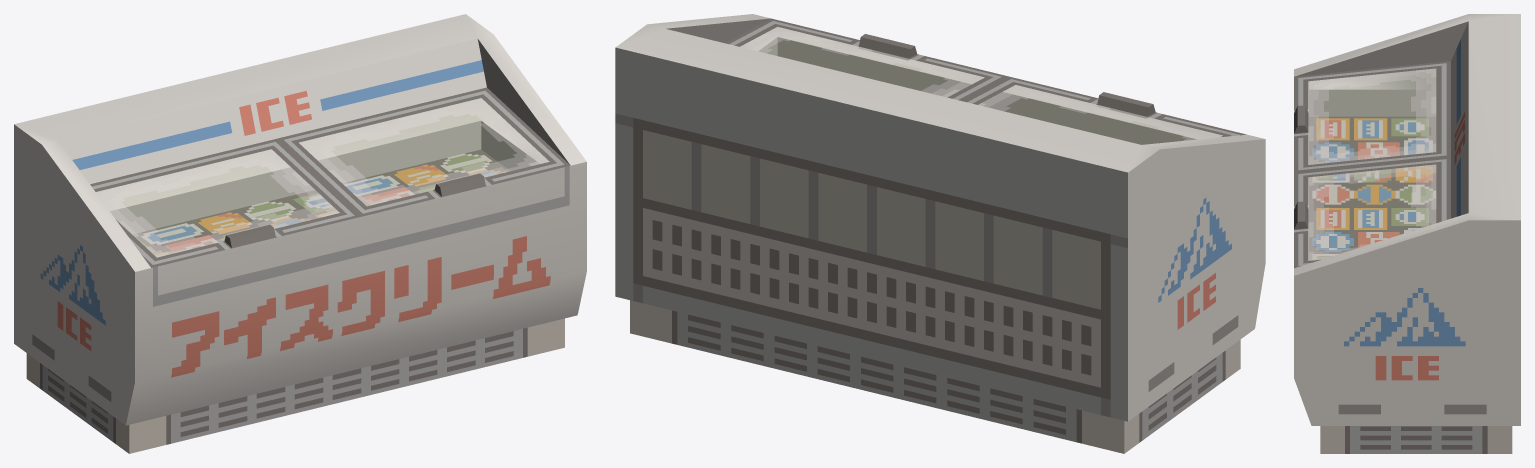
The model's file is 027d_Ice-Cream_Freezer.glb.
3 renders of one model, left to right at view 1: azimuth 30°, elevation 25°; view 2: azimuth 150°, elevation 25°; view 3: azimuth 270°, elevation 25°, orthographic. The views are drawn at different scales.
Visible parts, largest first — view 1: part_0; view 2: part_0; view 3: part_0.
Boxes of the visible parts, x1,y1,x2,y2 form: part_0: [14, 14, 586, 453]; part_0: [615, 14, 1265, 453]; part_0: [1294, 14, 1520, 453].
Bounding box in the file's own units: 1.65 × 0.8813 × 0.7639.
1 material, 1 textured.
